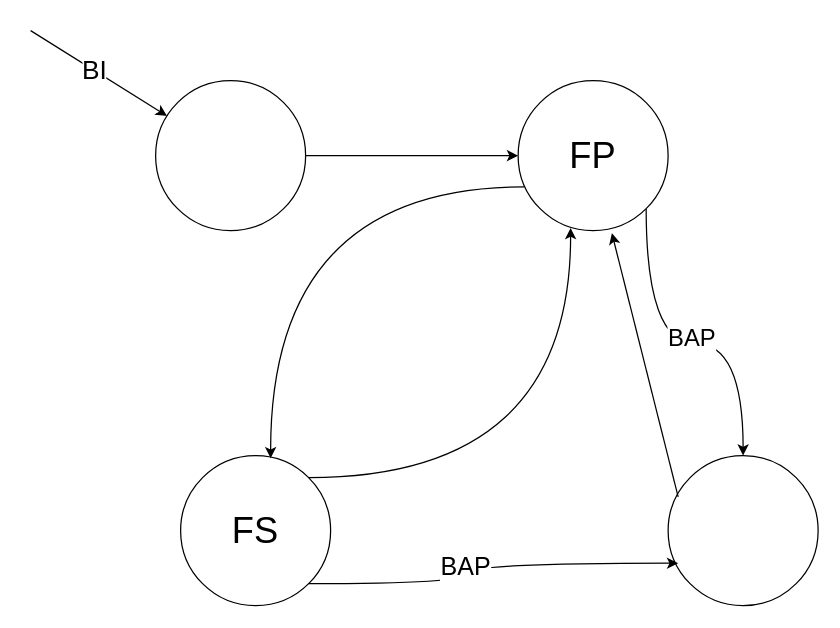
Some shapes in this 840 by 628 pixel diagram are drawn without their labels. Here are the shapes that lost their labels. From the top down, the centre of each, then its label:
the point at 230,155: INIT
the point at 742,530: FPTP
